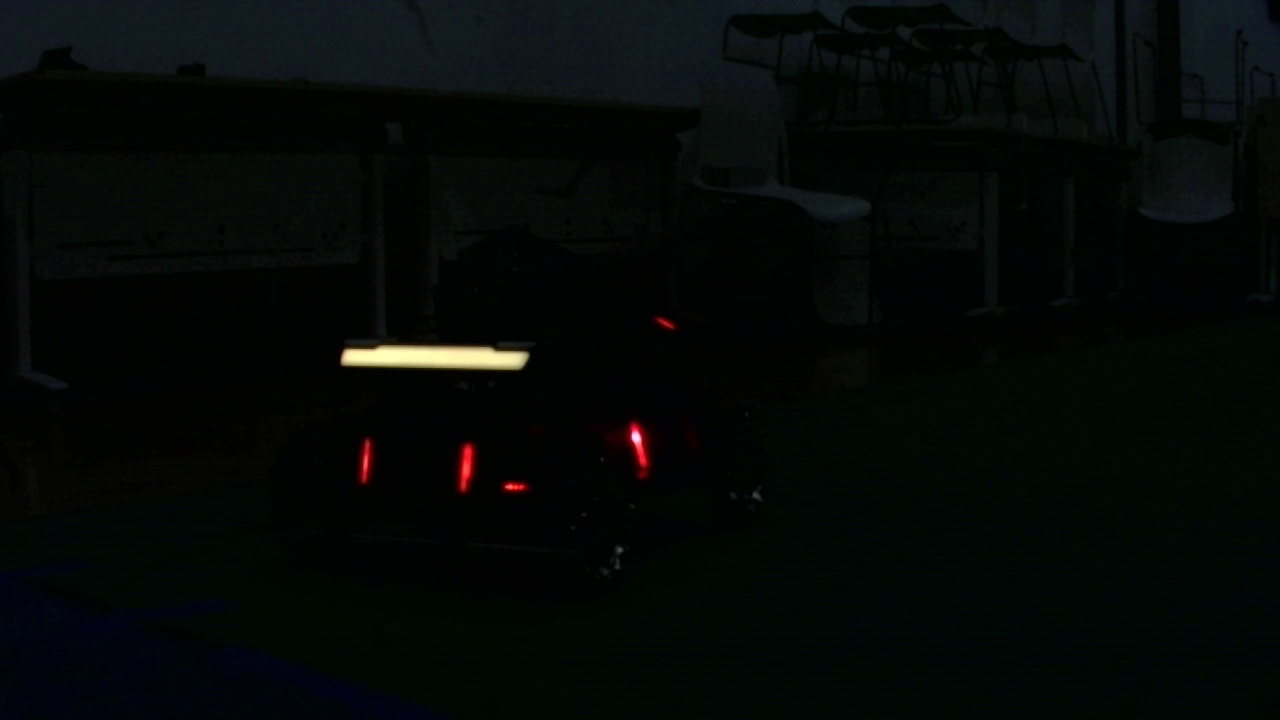lamp: (624, 404, 653, 482), (449, 437, 478, 500), (355, 427, 376, 488)
notpair1: (457, 418, 650, 498)
pair1: (355, 440, 475, 498)
